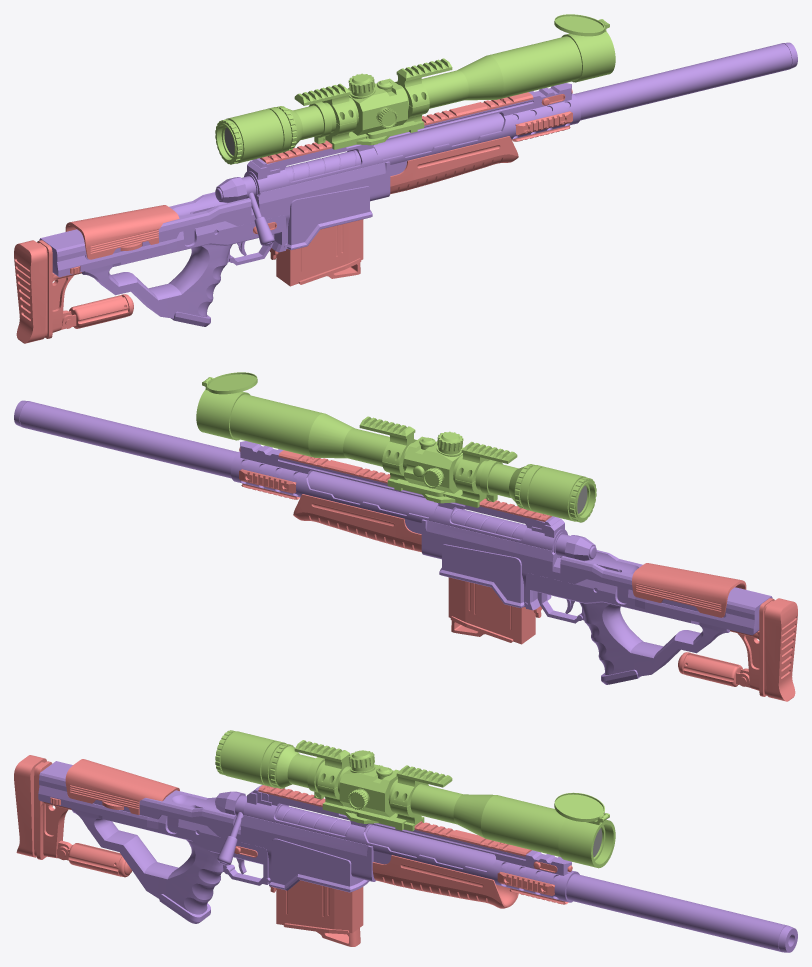
Rendered from GAP_2DAE10_Steylaerts_Jonathan_Lowpoly.fbx.
The picture shows the model from 3 angles, top to bottom: view 1: azimuth 30°, elevation 25°; view 2: azimuth 150°, elevation 25°; view 3: azimuth 330°, elevation 25°; orthographic projection.
Visible parts, largest first — view 1: Hull_Lp, Scope_Lp, Grip_Lp, Supressor_Lp, ScopeHolder_Lp, Magazine_Lp, FrontBarrelGrip_Lp, CheekPad_Lp, StockPlastic_Lp, Bolt_Lp, TopAttachmentRail_Lp, Stock_Lp (+3 smaller); view 2: Hull_Lp, Scope_Lp, Grip_Lp, Supressor_Lp, ScopeHolder_Lp, Magazine_Lp, CheekPad_Lp, FrontBarrelGrip_Lp, StockPlastic_Lp, Bolt_Lp, TopAttachmentRail_Lp, Stock_Lp (+3 smaller); view 3: Hull_Lp, Scope_Lp, Grip_Lp, Supressor_Lp, Magazine_Lp, ScopeHolder_Lp, FrontBarrelGrip_Lp, CheekPad_Lp, Bolt_Lp, Stock_Lp, StockPlastic_Lp, TopAttachmentRail_Lp (+4 smaller).
Part boxes in pixels (box(x1,y1,x2,y2)): Hull_Lp: box(39, 83, 580, 261); Scope_Lp: box(216, 19, 615, 163); Grip_Lp: box(52, 215, 287, 326); Supressor_Lp: box(373, 42, 797, 159); ScopeHolder_Lp: box(294, 58, 452, 149); Magazine_Lp: box(276, 219, 363, 286); FrontBarrelGrip_Lp: box(390, 136, 518, 194); CheekPad_Lp: box(65, 205, 179, 259); StockPlastic_Lp: box(14, 240, 47, 343); Bolt_Lp: box(215, 150, 360, 245); TopAttachmentRail_Lp: box(260, 92, 533, 163); Stock_Lp: box(37, 240, 81, 338); Hull_Lp: box(231, 441, 772, 619); Scope_Lp: box(196, 377, 595, 521); Grip_Lp: box(524, 573, 759, 684); Supressor_Lp: box(14, 400, 438, 517); ScopeHolder_Lp: box(359, 416, 517, 507); Magazine_Lp: box(448, 577, 535, 644); CheekPad_Lp: box(632, 563, 746, 617); FrontBarrelGrip_Lp: box(293, 494, 421, 552); StockPlastic_Lp: box(764, 598, 797, 701); Bolt_Lp: box(451, 508, 596, 561); TopAttachmentRail_Lp: box(278, 450, 551, 521); Stock_Lp: box(730, 598, 774, 696); Hull_Lp: box(39, 761, 579, 902); Scope_Lp: box(220, 731, 615, 868); Grip_Lp: box(38, 785, 270, 923); Supressor_Lp: box(365, 824, 797, 952); Magazine_Lp: box(276, 880, 363, 946); ScopeHolder_Lp: box(294, 740, 452, 831); FrontBarrelGrip_Lp: box(372, 855, 518, 908); CheekPad_Lp: box(65, 759, 179, 814); Bolt_Lp: box(215, 791, 350, 865); Stock_Lp: box(34, 761, 71, 859); StockPlastic_Lp: box(14, 755, 46, 857); TopAttachmentRail_Lp: box(258, 785, 531, 856).
Bounding box in the file's own units: 633 × 58.86 × 166.
